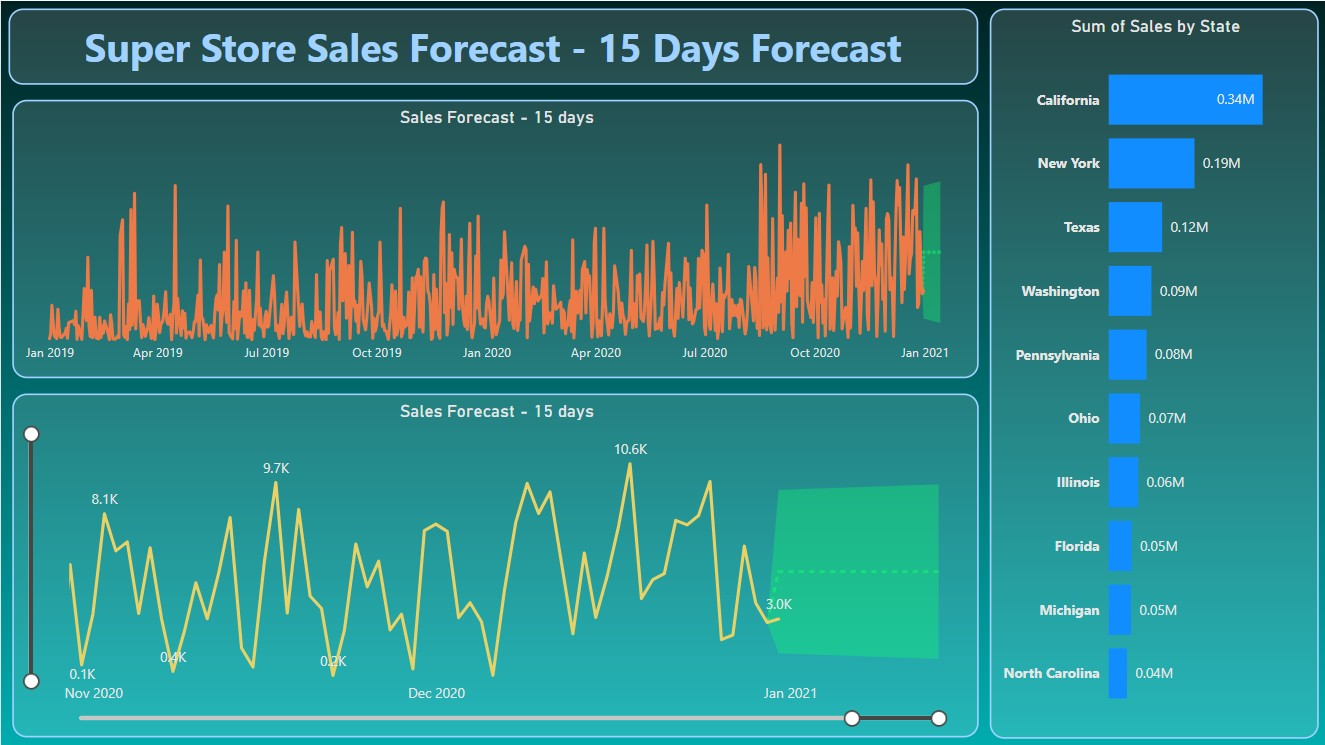

Layout of this report page (visuals, bound fields, positions):
{"tool":"powerbi","page":{"name":"Sales Forecast","canvas":[1280,720],"ordinal":1},"visuals":[{"type":"lineChart","title":"Sales Forecast - 15 days","fields":{"Y":["Sum(SuperStore_Sales_Dataset.Sales)"],"Category":["SuperStore_Sales_Dataset.Order Date"]},"box":[10.9,95.3,932.6,269],"z":0},{"type":"lineChart","title":"Sales Forecast - 15 days","fields":{"Y":["Sum(SuperStore_Sales_Dataset.Sales)"],"Category":["SuperStore_Sales_Dataset.Order Date"]},"box":[10.9,378.8,932.6,331.8],"z":1000},{"type":"clusteredBarChart","fields":{"Category":["SuperStore_Sales_Dataset.State"],"Y":["Sum(SuperStore_Sales_Dataset.Sales)"]},"box":[954.3,7.2,317.3,704.6],"z":2000},{"type":"textbox","box":[7.2,7.2,936.2,73.6],"z":3000}]}

Visuals, with their boxes in screenshot pixels (x1, y1, x2, y2), scaled from the page's 1280x720 canvas onto the 1325x745 screenshot:
"Sales Forecast - 15 days" lineChart: x1=11 y1=99 x2=977 y2=377
"Sales Forecast - 15 days" lineChart: x1=11 y1=392 x2=977 y2=735
clusteredBarChart - SuperStore_Sales_Dataset.State x Sum(SuperStore_Sales_Dataset.Sales): x1=988 y1=7 x2=1316 y2=737
textbox: x1=7 y1=7 x2=977 y2=84
